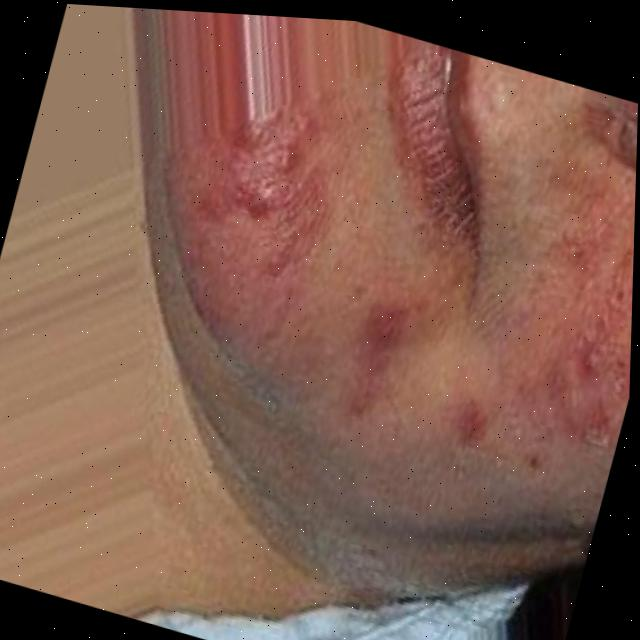Rosacea: (431, 127, 637, 494), (174, 92, 364, 356), (328, 284, 425, 441)
